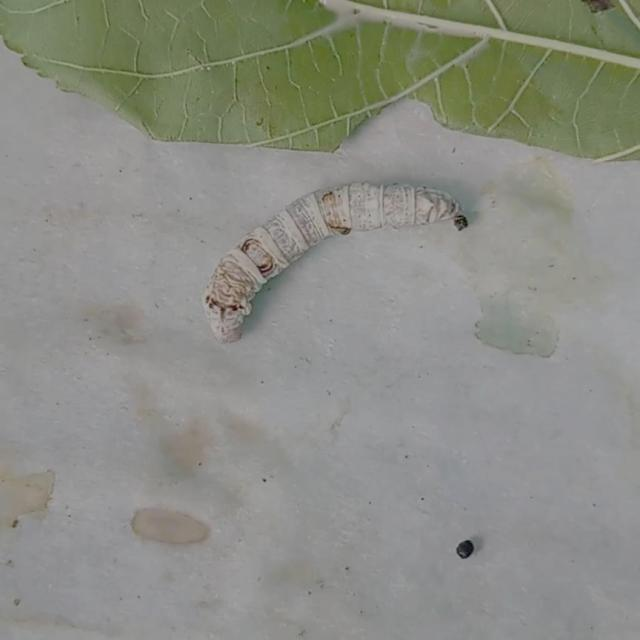Grasserie: (181, 151, 499, 366)
